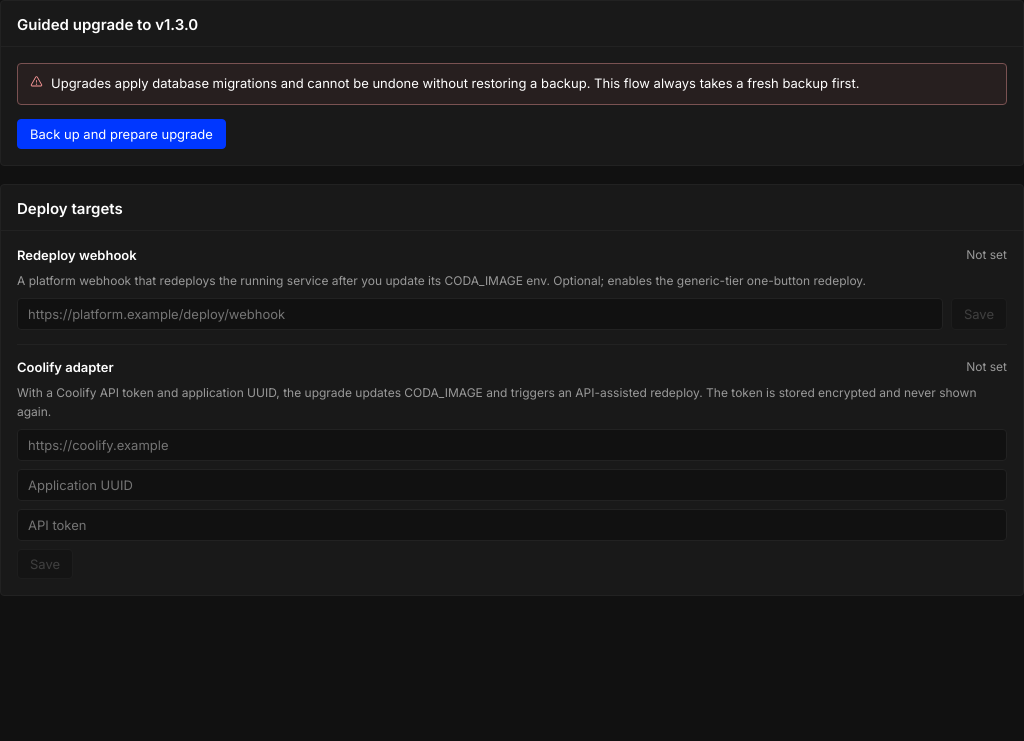
Test: UpgradeCeremony › runs the backup gate and moves to the deploy step
Click the button "Back up and prepare upgrade". click: (121, 134)
box: 17,118 -> 226,148
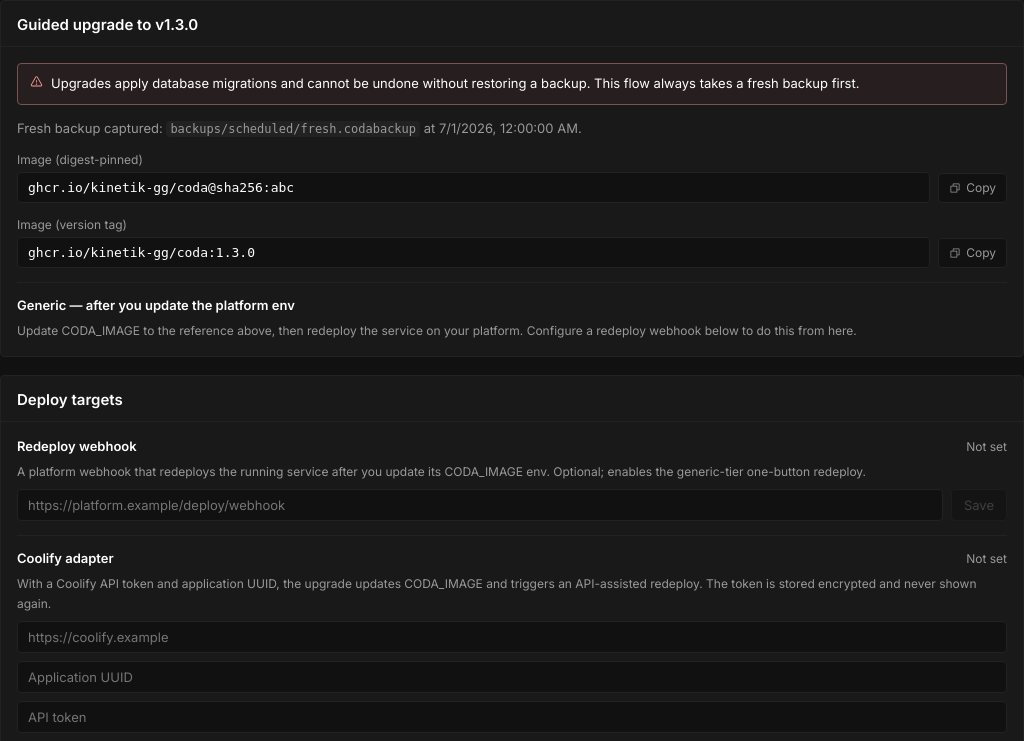
Expected: the text "Fresh backup captured" is shown, 17,120 -> 166,136
